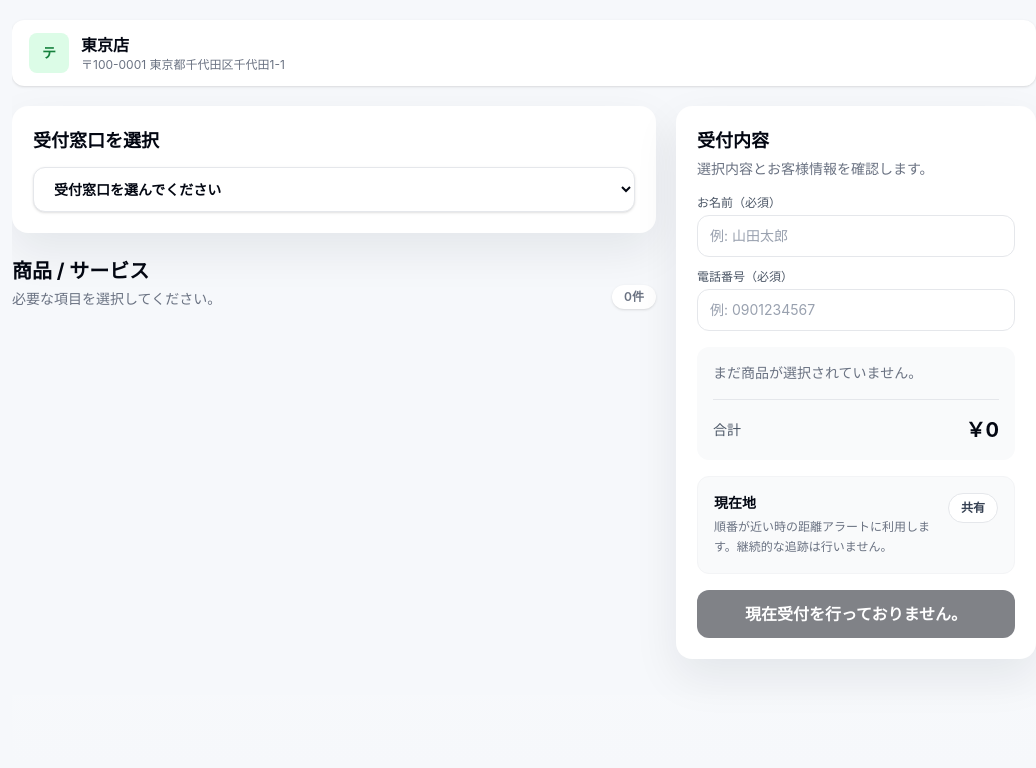
Scenario: LiffCustomerJoinPage › shows only the catalog assigned to the selected branch queue
Expected: the heading "東京店" is shown, top-left (81, 35), bottom-right (129, 55)
Expected: the button "カラー受付" is not shown
Select "カラー受付" in the dropdown labelled "受付窓口を選択" at x=334, y=190, box top-left (33, 167), bottom-right (635, 212)
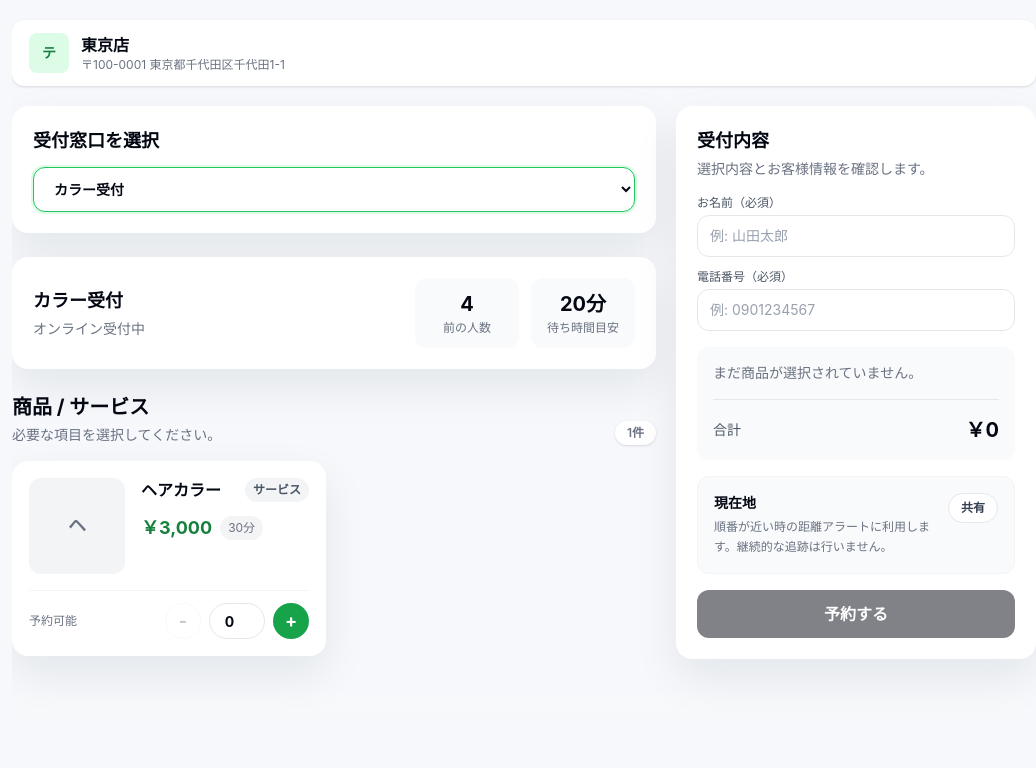
Expected: the button named "ヘアカラー を追加" is shown, top-left (273, 603), bottom-right (309, 639)
Expected: the text "20分" is shown, top-left (560, 292), bottom-right (606, 316)
